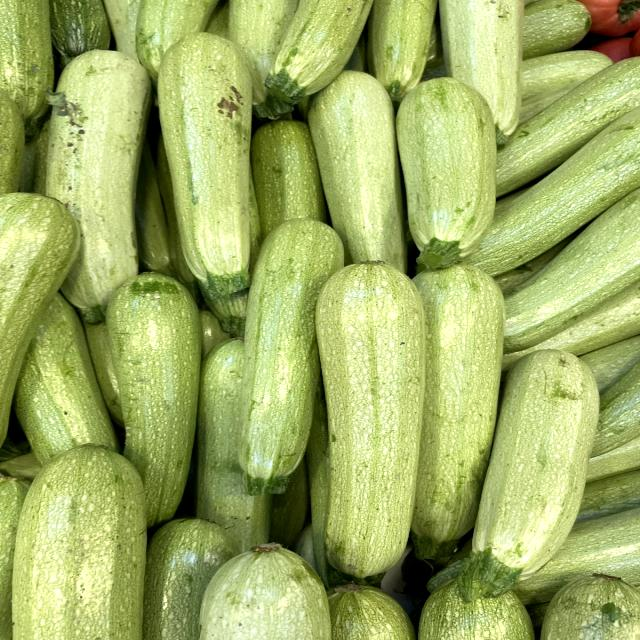zucchini: (445, 335, 616, 608), (315, 259, 432, 582), (222, 209, 346, 497), (149, 22, 263, 301), (377, 68, 515, 277)
